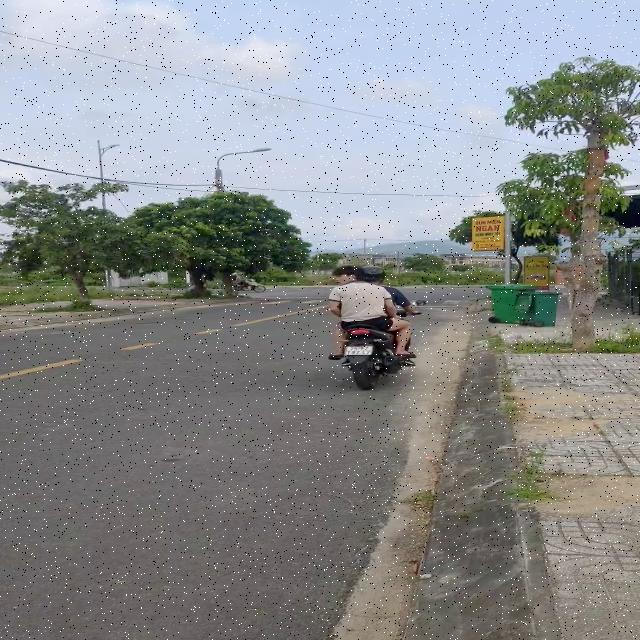no_helmet: (327, 264, 371, 284)
